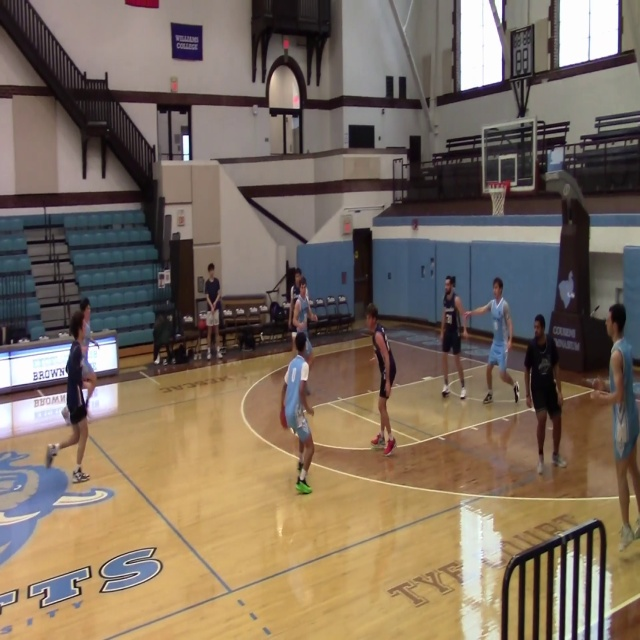Basketball: (61, 407, 69, 420), (198, 320, 206, 329)
